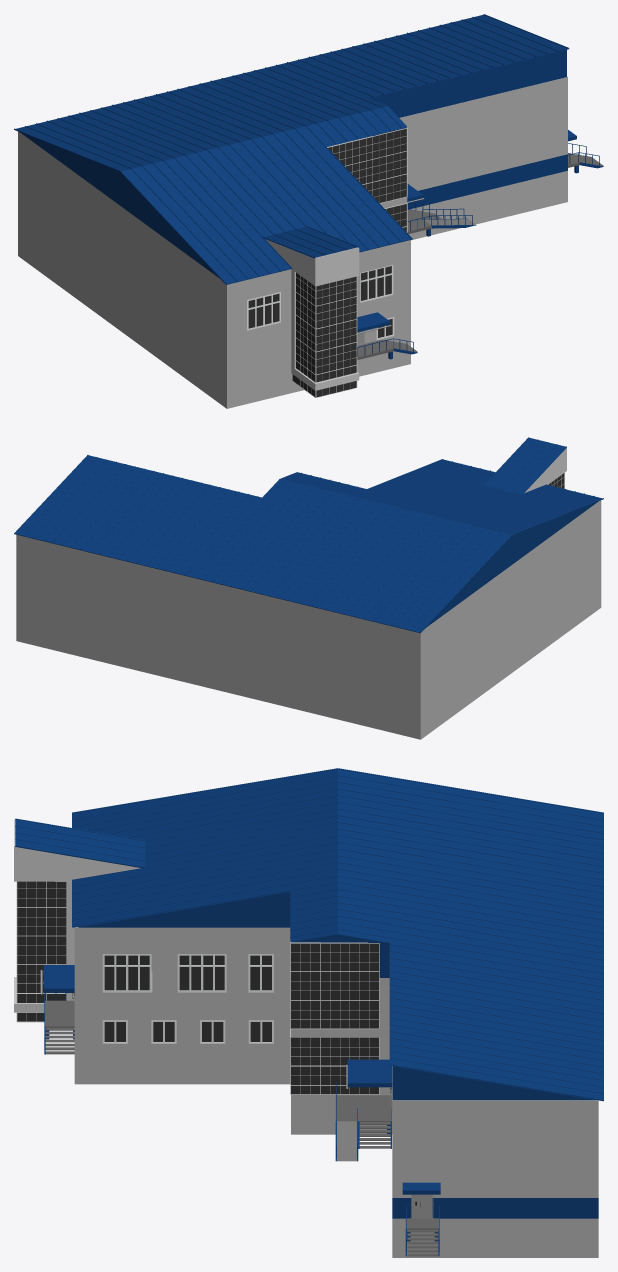
The model's file is ResearchBuilding.FBX.
3 views of the same model, one above another, from view 1: azimuth 30°, elevation 25°; view 2: azimuth 150°, elevation 25°; view 3: azimuth 270°, elevation 25° (orthographic). The views are drawn at different scales.
Parts seen in each view (by area): view 1: Box557, Object674, Object627, Box555, Box550, Object618, Group295, Group299, stage004; view 2: Box557, Object674, Object627, Box555, Object618, Box550; view 3: Object674, Box557, Object627, Box555, Object618, Box550, Group298, Group296, Object665, Object671, Group297, Object669 (+24 smaller).
Part boxes in pixels (x1,y1,x2,y2): Box557: (18, 76, 567, 408); Object674: (14, 14, 569, 171); Object627: (120, 106, 412, 284); Box555: (20, 50, 566, 278); Box550: (266, 239, 359, 390); Object618: (262, 226, 358, 258); Group295: (247, 292, 280, 330); Group299: (360, 265, 393, 302); stage004: (407, 201, 476, 236); Box557: (16, 500, 601, 739); Object674: (14, 455, 512, 633); Object627: (281, 459, 603, 535); Box555: (426, 501, 598, 627); Object618: (484, 437, 566, 494); Box550: (525, 437, 566, 492); Object674: (338, 768, 603, 1101); Box557: (74, 927, 598, 1257); Object627: (72, 768, 337, 941); Box555: (78, 891, 596, 1100); Object618: (15, 818, 146, 868); Box550: (14, 819, 140, 1012); Group298: (102, 954, 151, 992); Group296: (177, 954, 226, 992); Object665: (335, 1095, 391, 1121); Object671: (347, 1059, 392, 1087); Group297: (248, 954, 273, 992); Object669: (349, 1000, 379, 1029).
Bounding box in the file's own units: 270 × 215 × 81.57.
